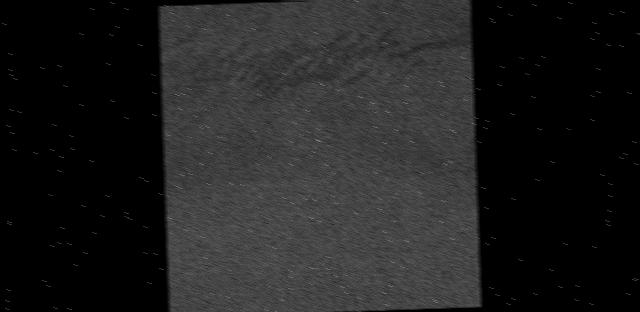water_spot: (158, 12, 468, 140)
